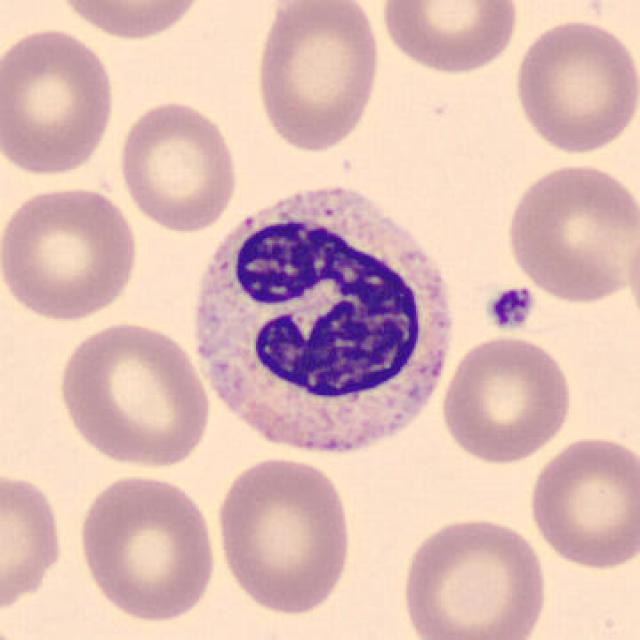Neutrophil: (182, 171, 462, 476)
Platelets: (484, 284, 535, 333)
RBC: (53, 317, 215, 469), (212, 453, 356, 619), (74, 469, 220, 624), (251, 0, 384, 155), (0, 180, 142, 324), (502, 158, 638, 306), (396, 513, 550, 640), (437, 332, 576, 466), (508, 14, 638, 157), (0, 23, 119, 178), (116, 97, 242, 234), (524, 432, 638, 573), (377, 0, 523, 76), (0, 466, 68, 620), (51, 0, 209, 42), (624, 218, 640, 338)
